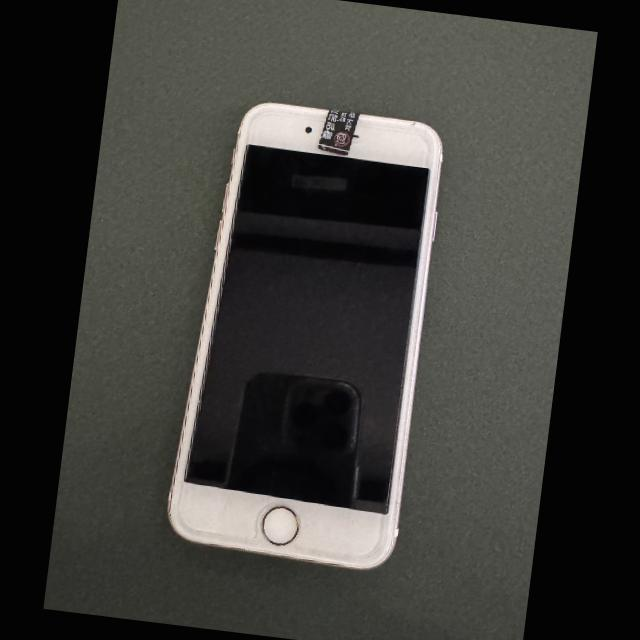phone: (168, 103, 442, 568)
sticker: (317, 109, 362, 155)
